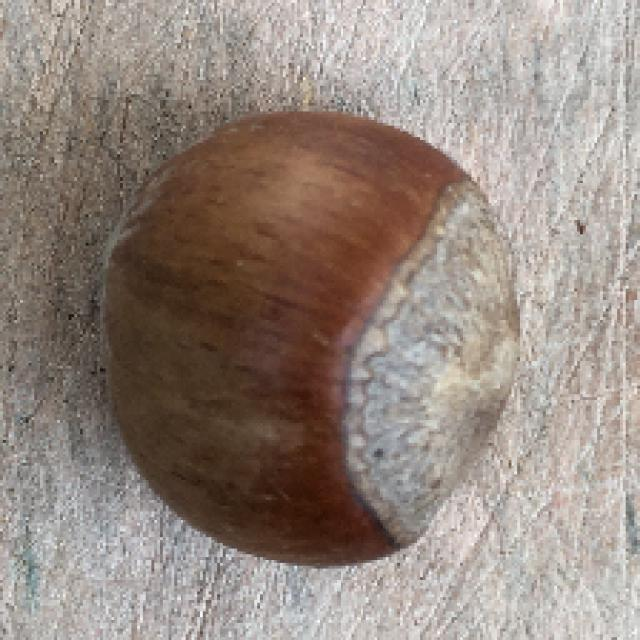DamagedHazelnut: (86, 113, 523, 565)
